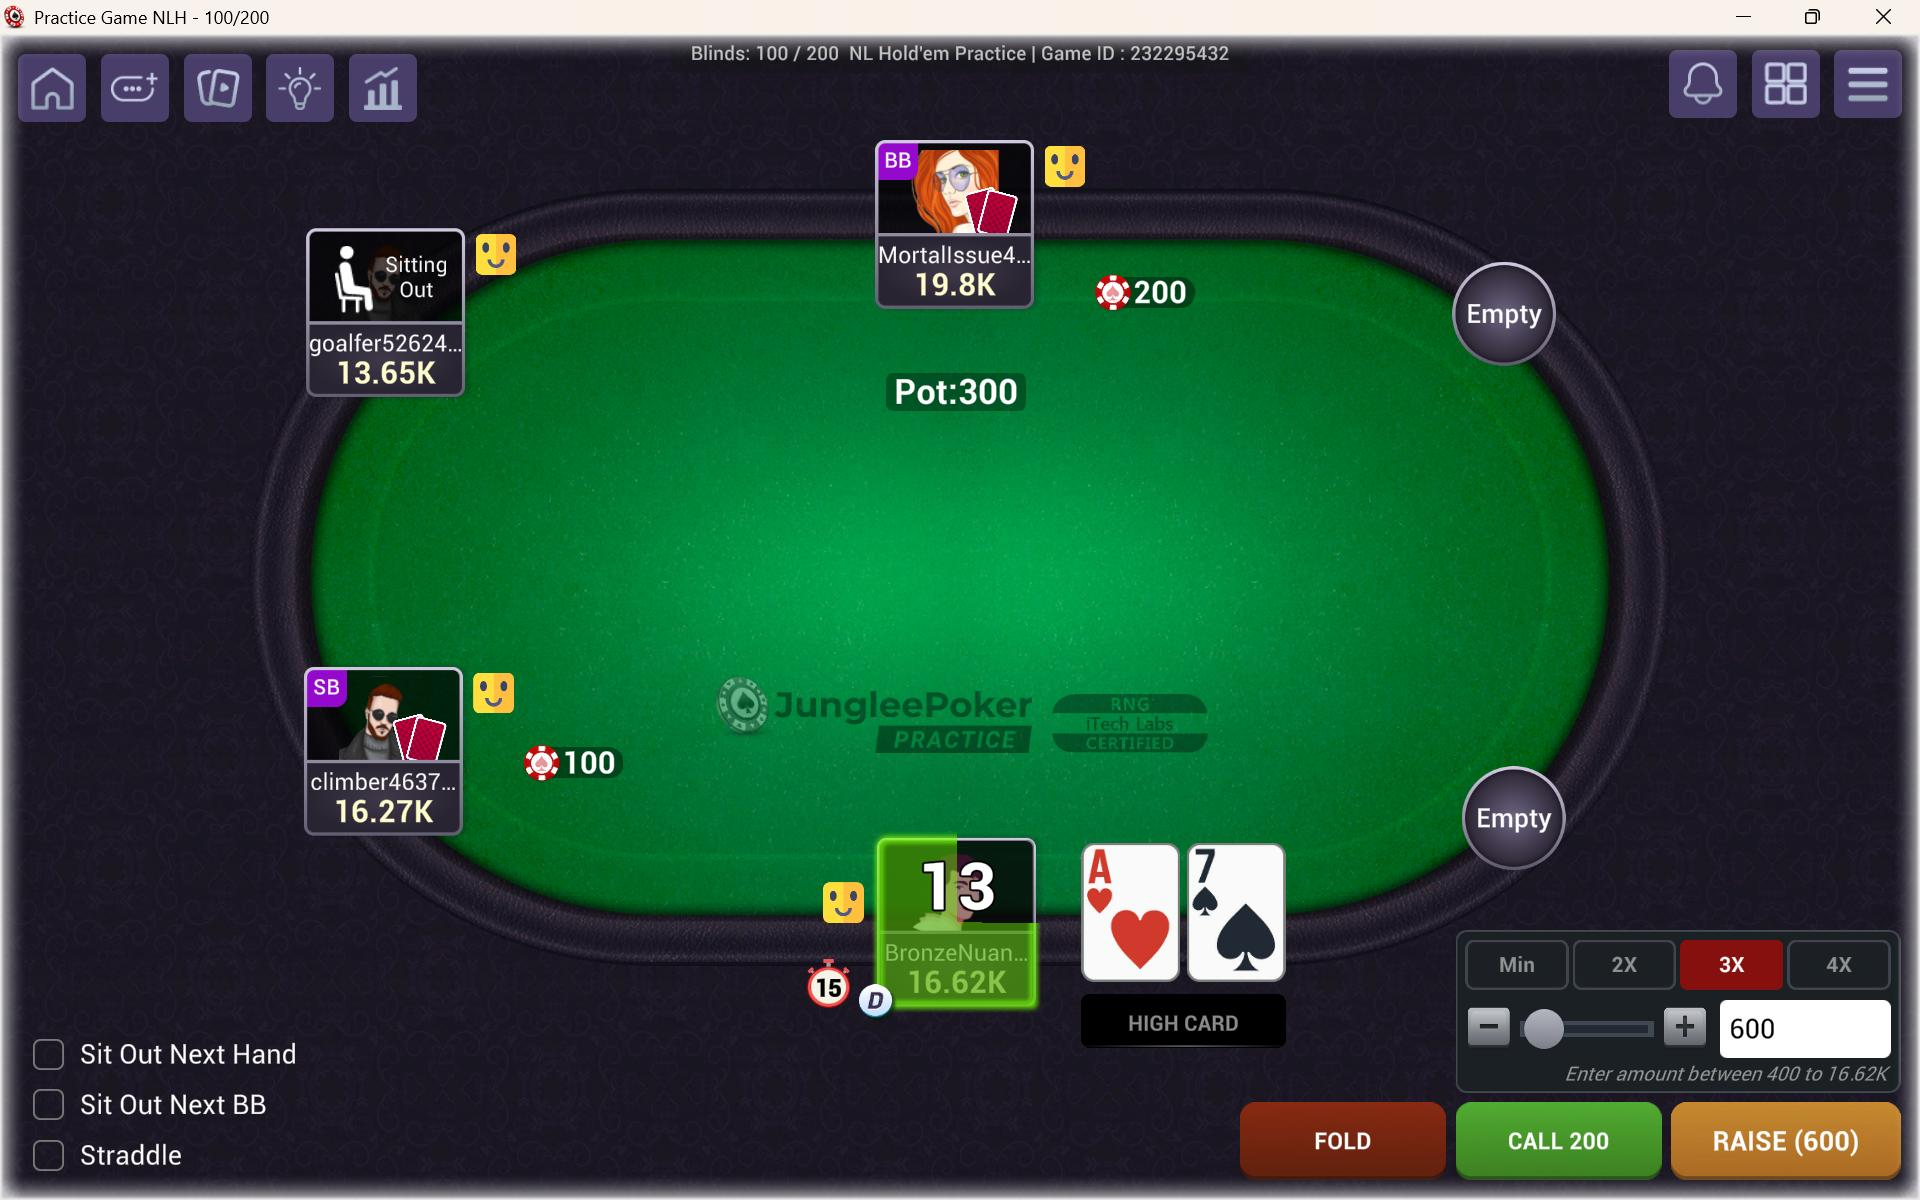button_call: (1460, 1103, 1656, 1182)
button_fold: (1237, 1100, 1442, 1178)
button_raise: (1673, 1103, 1898, 1175)
card1_rank: (1080, 843, 1161, 892)
card1_suite_heart: (1104, 893, 1182, 980)
card2_rank: (1187, 843, 1250, 889)
card2_suite_spades: (1215, 889, 1286, 977)
game_id: (1030, 36, 1237, 75)
iinput_field: (1720, 995, 1897, 1062)
my_stack: (885, 954, 1030, 1004)
position_BB: (881, 138, 923, 185)
position_SB: (300, 661, 354, 713)
total_pot: (885, 364, 1030, 412)
villian1_name: (310, 760, 463, 798)
villian1_stack: (310, 798, 462, 842)
villian2_bet: (520, 744, 629, 782)
villian2_name: (305, 324, 459, 361)
villian2_stack: (315, 354, 463, 397)
villian3_bet: (1091, 263, 1190, 318)
villian3_name: (872, 224, 1037, 272)
villian3_stack: (882, 265, 1035, 307)
